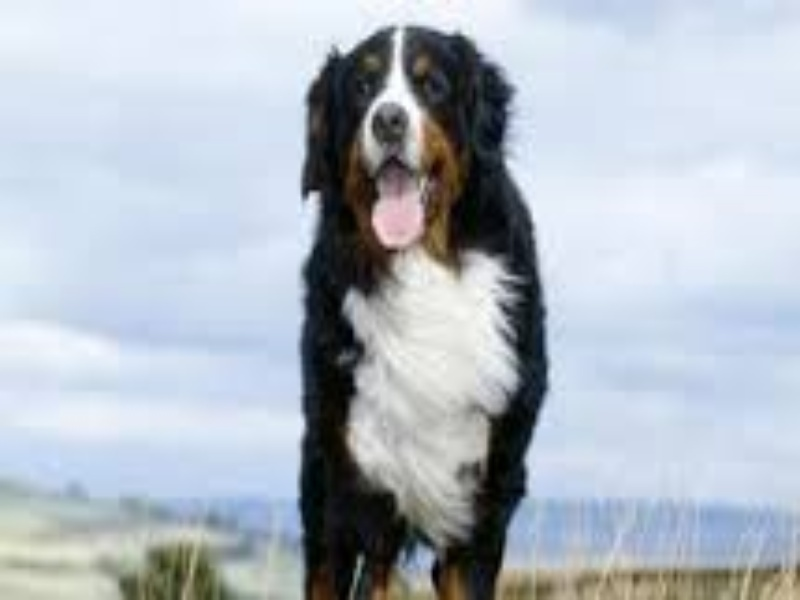dog: (261, 18, 644, 575)
